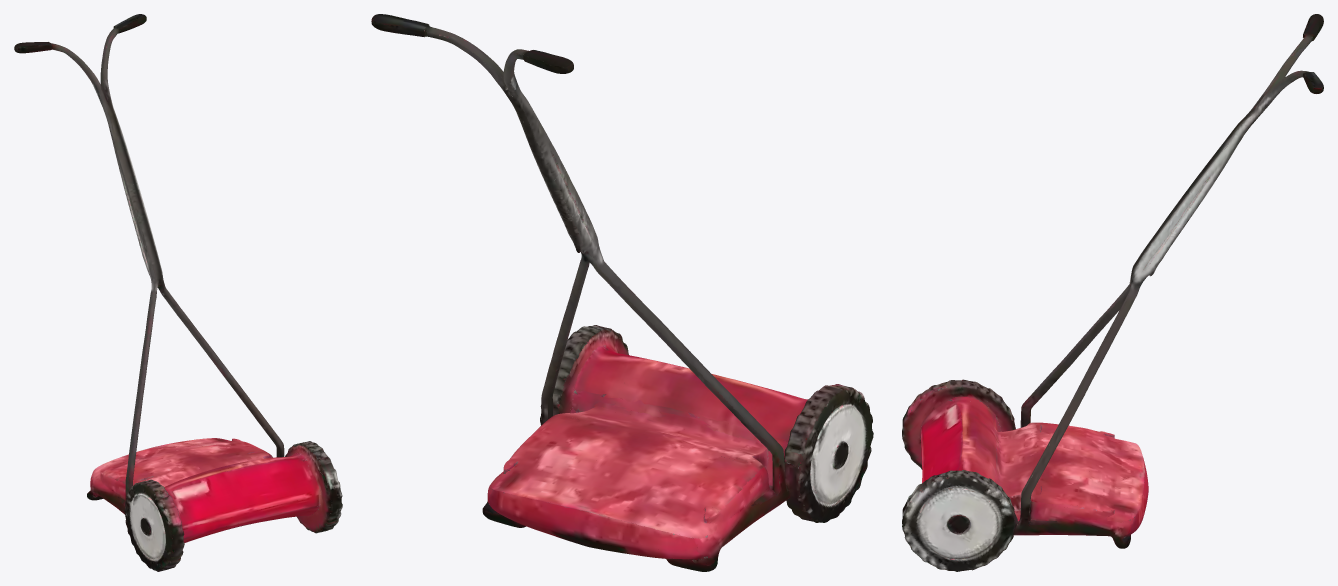
Rendered from hand_shaded.glb.
The picture shows the model from 3 angles, left to right: view 1: azimuth 30°, elevation 25°; view 2: azimuth 150°, elevation 25°; view 3: azimuth 270°, elevation 25°; orthographic projection. The views are drawn at different scales.
Visible parts, largest first — view 1: model; view 2: model; view 3: model.
Boxes of the visible parts, <box> form: model: <box>14,14,342,571</box>; model: <box>371,14,873,571</box>; model: <box>902,14,1323,571</box>.
Bounding box in the file's own units: 0.8678 × 1.9 × 1.53.
1 material, 1 textured.
